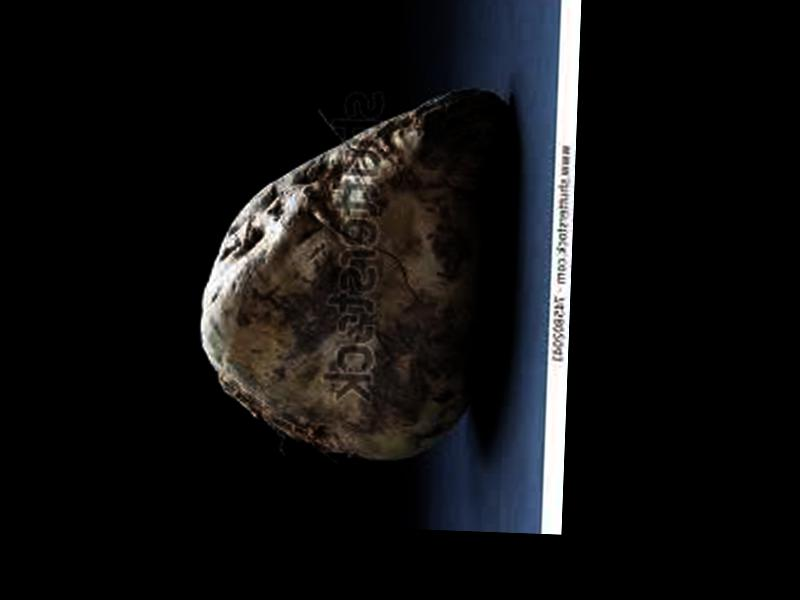Beet: (197, 84, 506, 469)
